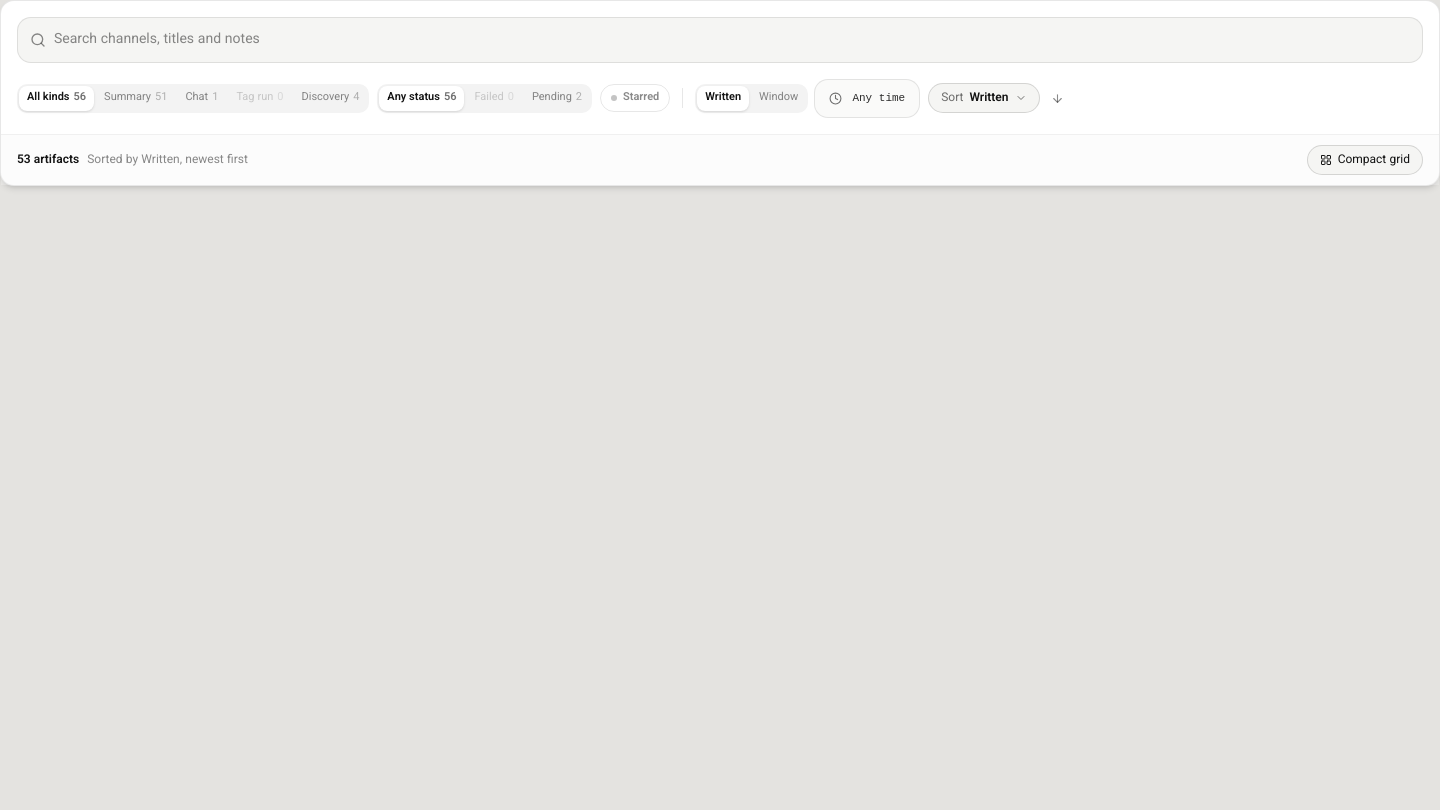
Test: the time filter › its popover holds the spread
Expected: the text "the spread" is not shown
Click the button with aria-label "Written": (867, 98) [814, 79, 920, 118]
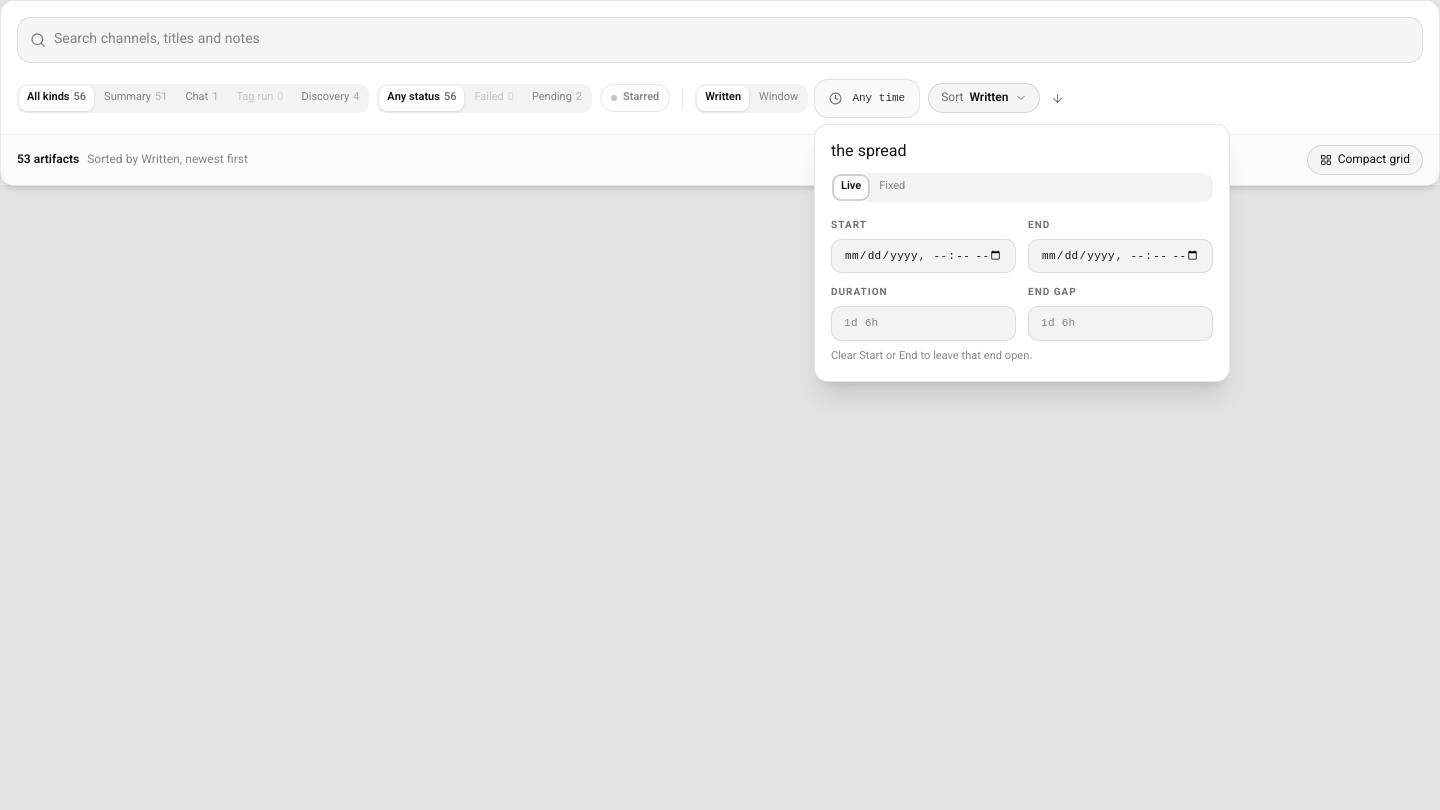
Now the text "the spread" is shown, box [831, 140, 907, 165]
